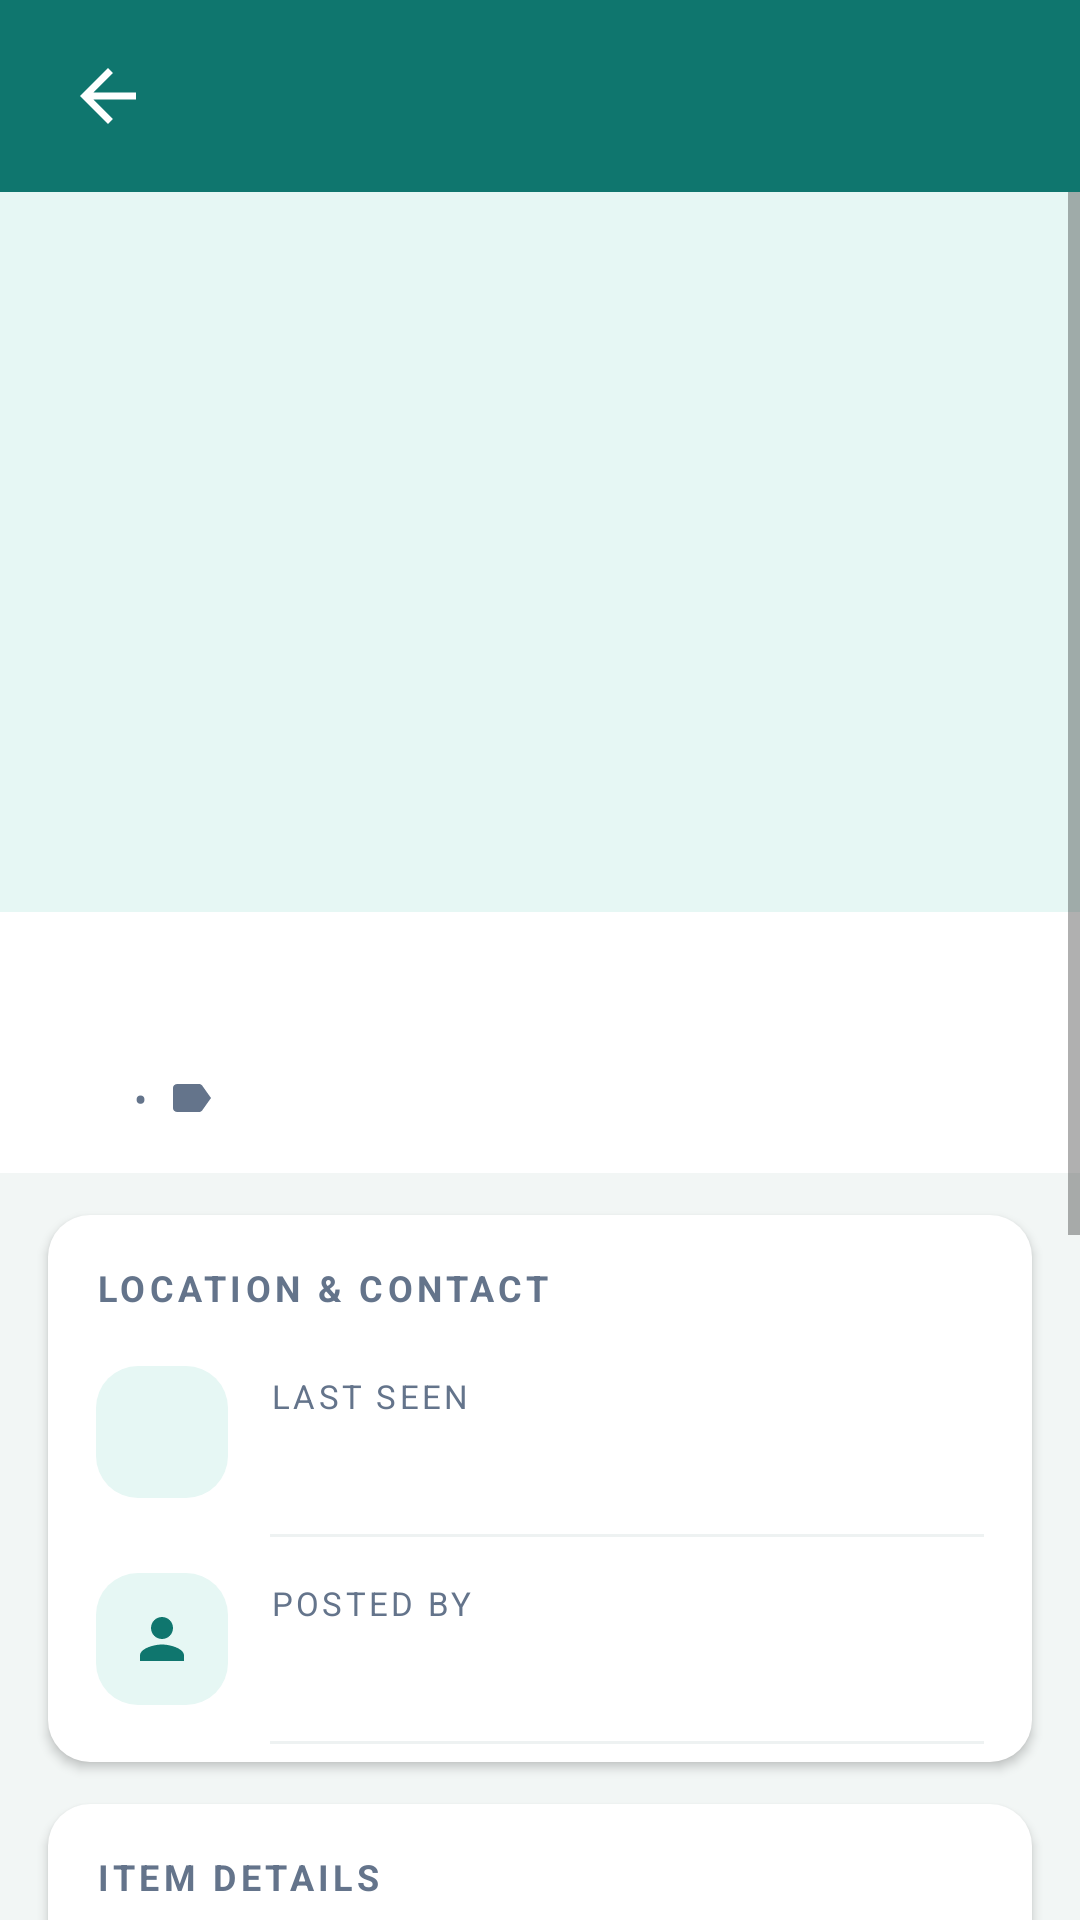

Icons on this 1080×1920 Android screen, each with the point to tap as point (x, y):
Back: point (108, 96)
person: point (162, 1639)
tag: point (192, 1098)
